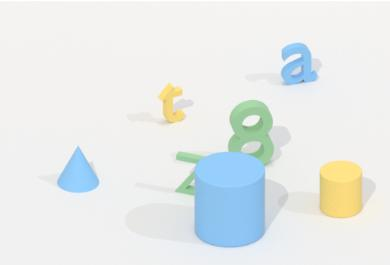0-KhoiTru: (192, 148, 268, 249), (314, 157, 370, 223)
0-TamGiac: (52, 143, 104, 196)
8: (227, 95, 277, 172)
a: (277, 39, 322, 89)
t: (154, 79, 189, 128)
